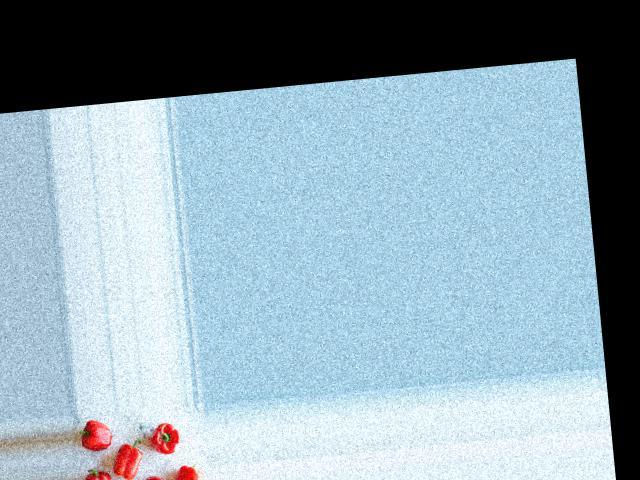bell_pepper: (138, 473, 170, 480)
